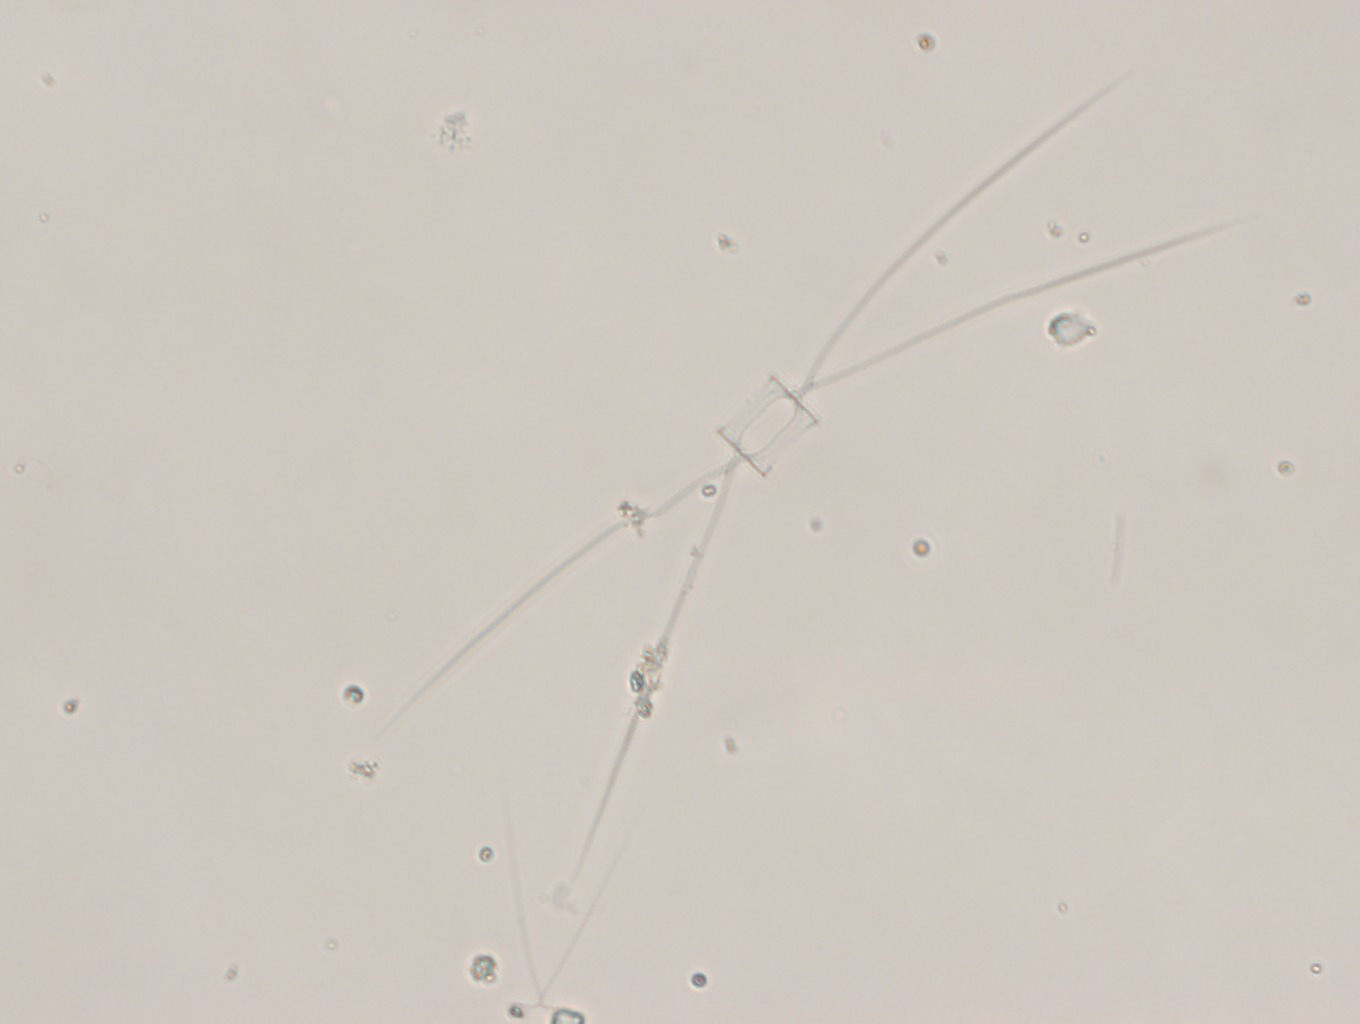chaetoceros: (397, 69, 1240, 844)
